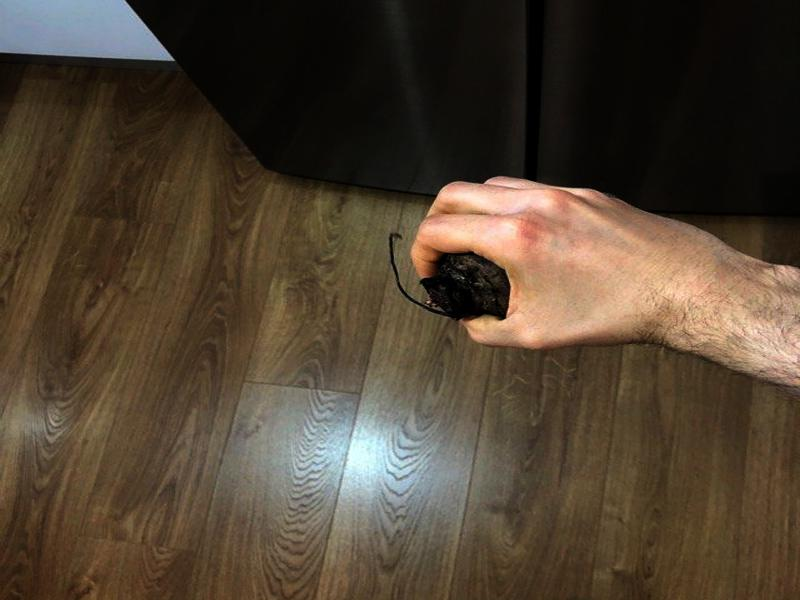Beet: (385, 231, 509, 319)
